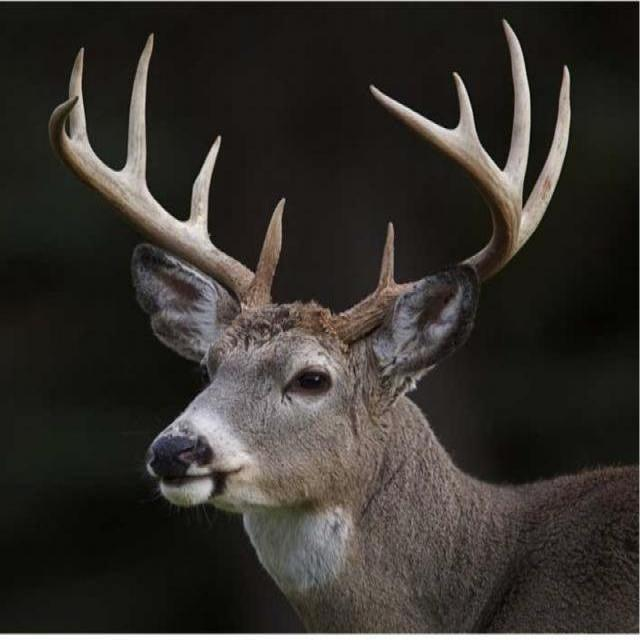deer: (47, 24, 621, 635)
